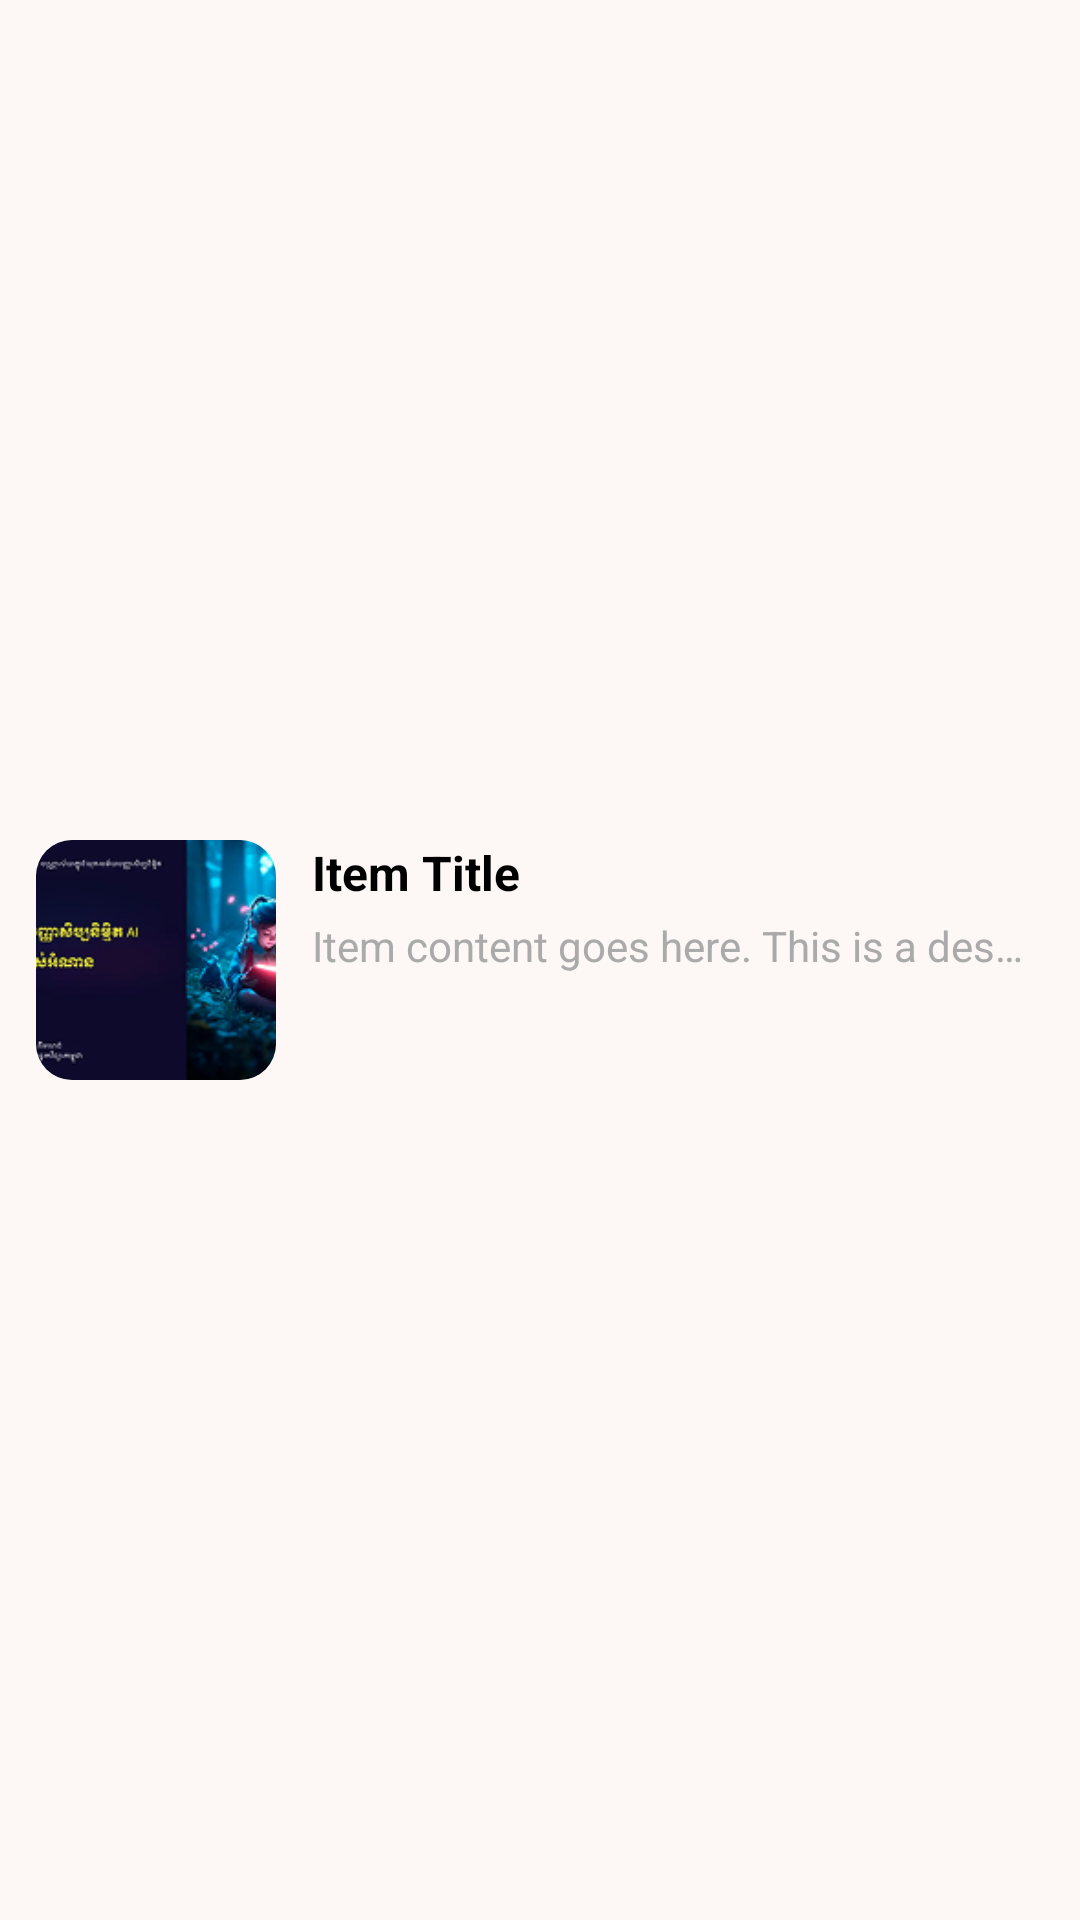

Point at icon controls on the screen. Image size 1080px x 1920px, points as point (x, y).
Images use all contents: point (156, 960)
